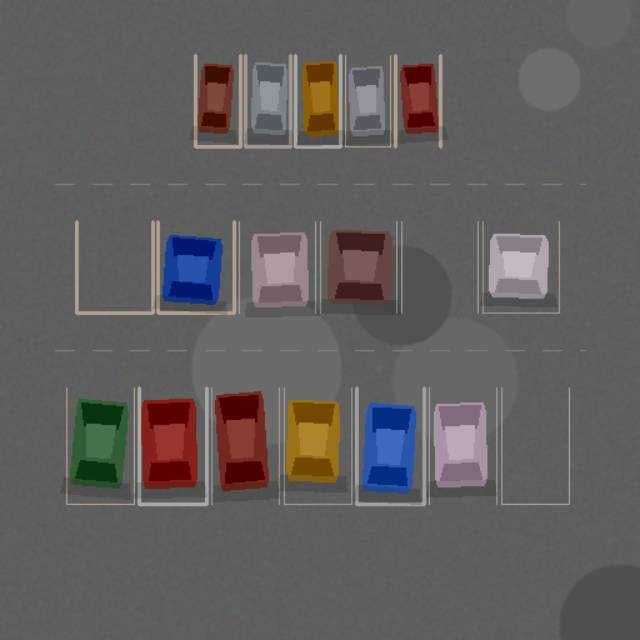space-empty: (501, 387, 569, 504), (76, 221, 153, 312), (401, 221, 477, 312)
space-occupied: (66, 387, 134, 504), (211, 387, 279, 504), (356, 387, 424, 504), (139, 387, 206, 504), (284, 387, 351, 504), (429, 387, 496, 504), (157, 221, 234, 312), (239, 221, 315, 312), (320, 221, 396, 312), (483, 221, 559, 312), (195, 55, 240, 146), (245, 55, 290, 146), (295, 55, 340, 146), (345, 55, 390, 146), (395, 55, 440, 146)
